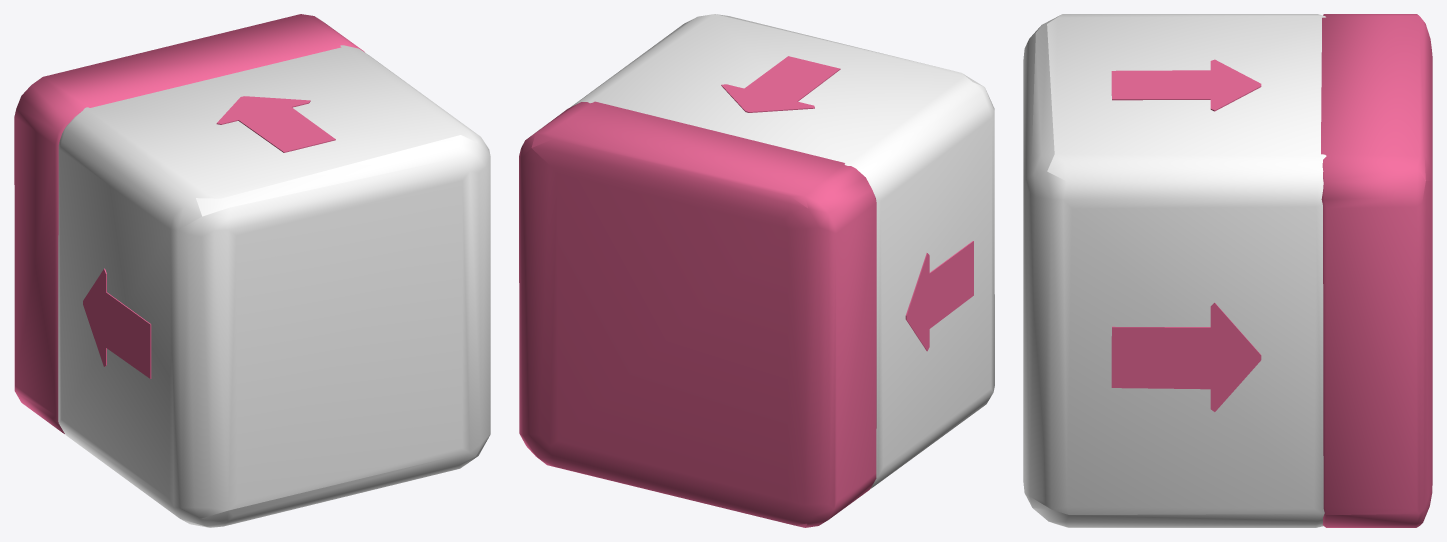
Rendered from NewCube.fbx.
3 views of the same model, side by side, from view 1: azimuth 30°, elevation 25°; view 2: azimuth 150°, elevation 25°; view 3: azimuth 270°, elevation 25° (orthographic). The views are drawn at different scales.
Visible parts, largest first — view 1: Prim_Cube_Smooth_45k, Prim_Cube_Smooth_45k_1, uploads_files_834452_Arrow__3_, uploads_files_834452_Arrow; view 2: Prim_Cube_Smooth_45k_1, Prim_Cube_Smooth_45k, uploads_files_834452_Arrow__3_, uploads_files_834452_Arrow; view 3: Prim_Cube_Smooth_45k, Prim_Cube_Smooth_45k_1, uploads_files_834452_Arrow__2_, uploads_files_834452_Arrow.
Boxes of the visible parts, x1=… form: Prim_Cube_Smooth_45k: x1=58, y1=45, x2=490, y2=527; Prim_Cube_Smooth_45k_1: x1=14, y1=14, x2=364, y2=433; uploads_files_834452_Arrow__3_: x1=83, y1=268, x2=151, y2=378; uploads_files_834452_Arrow: x1=216, y1=96, x2=335, y2=152; Prim_Cube_Smooth_45k_1: x1=519, y1=101, x2=876, y2=527; Prim_Cube_Smooth_45k: x1=570, y1=14, x2=994, y2=488; uploads_files_834452_Arrow__3_: x1=905, y1=241, x2=973, y2=351; uploads_files_834452_Arrow: x1=721, y1=56, x2=840, y2=112; Prim_Cube_Smooth_45k: x1=1023, y1=14, x2=1326, y2=527; Prim_Cube_Smooth_45k_1: x1=1321, y1=14, x2=1432, y2=527; uploads_files_834452_Arrow__2_: x1=1111, y1=302, x2=1261, y2=411; uploads_files_834452_Arrow: x1=1111, y1=59, x2=1261, y2=111.
Bounding box in the file's own units: 10013 × 10013 × 9989.
